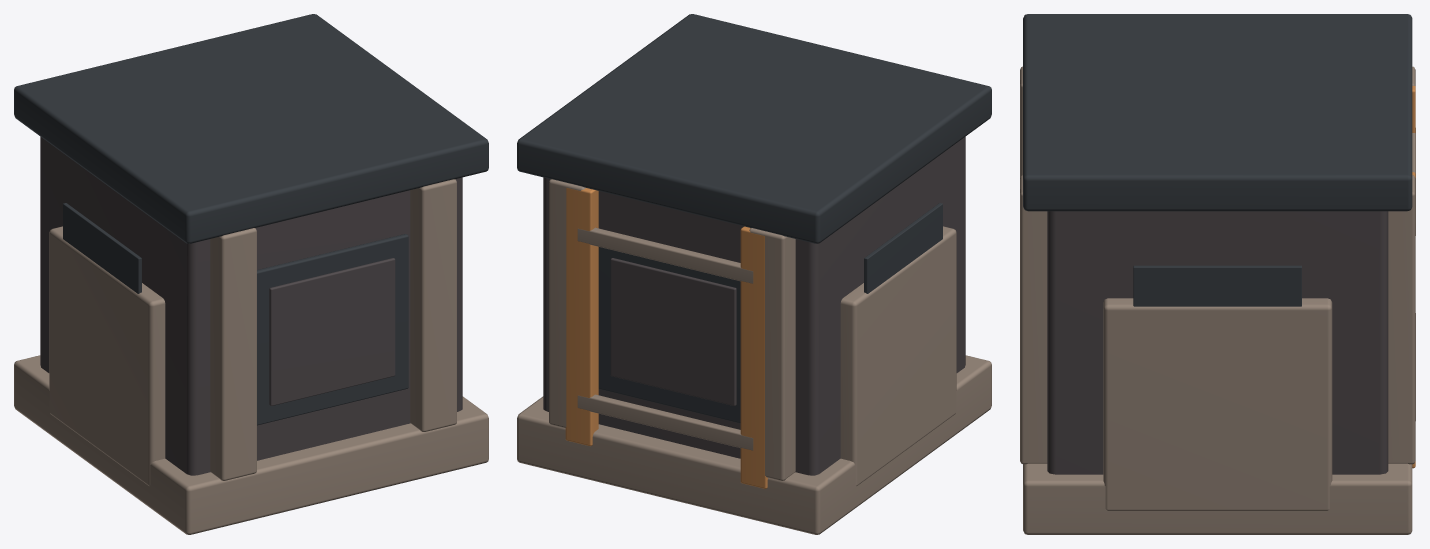
The model's file is uplink-1.glb.
3 renders of one model, left to right at view 1: azimuth 30°, elevation 25°; view 2: azimuth 150°, elevation 25°; view 3: azimuth 270°, elevation 25°, orthographic. The views are drawn at different scales.
Parts seen in each view (by area): view 1: uplink_2.001, uplink_1.001, uplink_0.001; view 2: uplink_2.001, uplink_1.001, uplink_0.001, uplink_3.001; view 3: uplink_2.001, uplink_1.001, uplink_0.001.
Part boxes in pixels (x1,y1,x2,y2): uplink_2.001: (14, 14, 488, 425); uplink_1.001: (14, 179, 488, 534); uplink_0.001: (40, 136, 462, 475); uplink_2.001: (517, 14, 991, 423); uplink_1.001: (517, 179, 991, 534); uplink_0.001: (543, 136, 965, 475); uplink_3.001: (565, 188, 767, 488); uplink_2.001: (1023, 14, 1412, 306); uplink_1.001: (1020, 66, 1415, 534); uplink_0.001: (1047, 211, 1388, 474).
Size of the model in its own units: 0.975 by 0.99 by 0.986.
